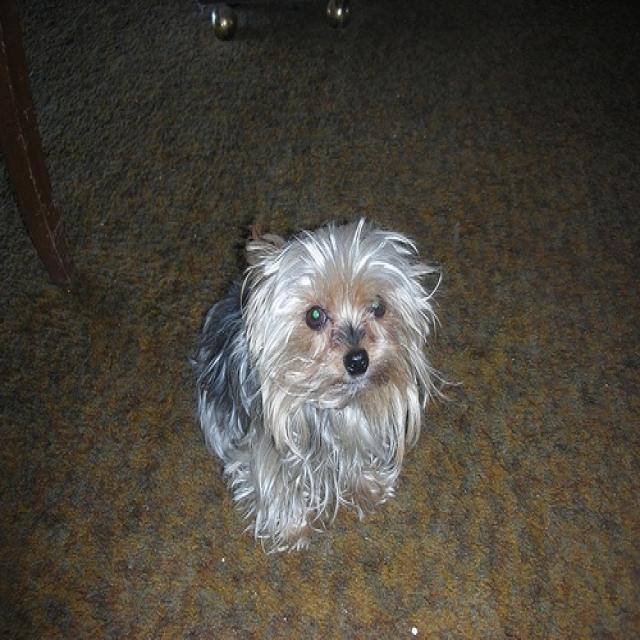dog: (191, 217, 453, 551)
